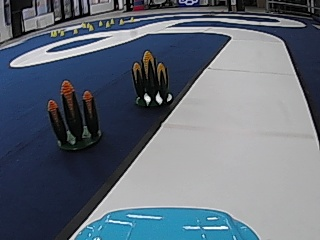corn: (47, 81, 104, 150), (129, 47, 172, 106)
